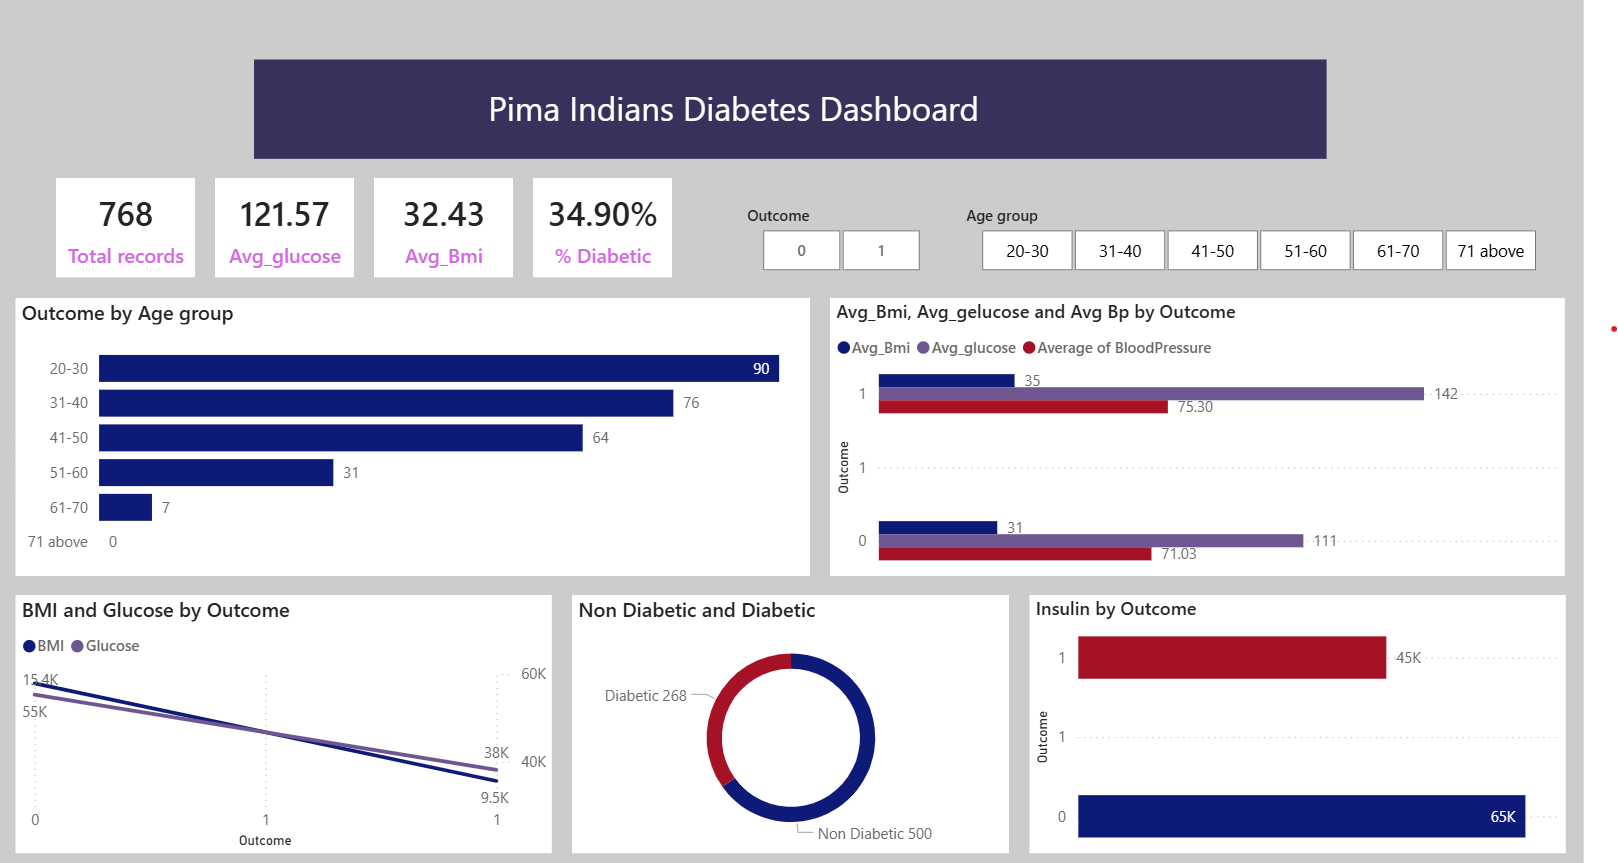

The dashboard page shown, as its layout file describes it:
{"tool":"powerbi","page":{"name":"Page 1","canvas":[1280,720],"ordinal":0},"visuals":[{"type":"barChart","title":"Outcome by Age group","fields":{"Category":["diabetes_data.Age group"],"Y":["Sum(diabetes_data.Outcome)"]},"box":[16,256,640,224],"z":0},{"type":"clusteredBarChart","title":"Avg_Bmi, Avg_gelucose and Avg Bp by Outcome","fields":{"Y":["All_measures.Avg_Bmi","All_measures.Avg_glucose","Avg(diabetes_data.BloodPressure)"],"Category":["diabetes_data.Outcome"]},"box":[672,256,592,224],"z":1000},{"type":"donutChart","fields":{"Y":["All_measures.Non Diabetic","All_measures.Diabetic"]},"box":[464,496,352,208],"z":2000},{"type":"slicer","fields":{"Values":["diabetes_data.Age group"]},"box":[768,176,496,64],"z":3000},{"type":"lineChart","fields":{"Category":["diabetes_data.Outcome"],"Y":["Sum(diabetes_data.BMI)"],"Y2":["Sum(diabetes_data.Glucose)"]},"box":[16,496,432,208],"z":4000},{"type":"barChart","title":"Insulin by Outcome","fields":{"Category":["diabetes_data.Outcome"],"Y":["Sum(diabetes_data.Insulin)"]},"box":[832,496,432,208],"z":5000},{"type":"slicer","fields":{"Values":["diabetes_data.Outcome"]},"box":[592,176,176,64],"z":6000},{"type":"card","fields":{"Values":["All_measures.Count"]},"box":[48,160,112,80],"z":7000},{"type":"card","fields":{"Values":["All_measures.% Diabetic"]},"box":[432,160,112,80],"z":8000},{"type":"card","fields":{"Values":["All_measures.Avg_glucose"]},"box":[176,160,112,80],"z":9000},{"type":"card","fields":{"Values":["All_measures.Avg_Bmi"]},"box":[304,160,112,80],"z":10000},{"type":"shape","box":[208,64,864,80],"z":11000},{"type":"textbox","box":[384,80,528,48],"z":12000}]}

Visuals, with their boxes on the page's 1280x720 design canvas (x1, y1, x2, y2). These are canvas units, not pixel positions in the 1618x863 screenshot, which may show the page scaled, cropped or inside an application window:
"Outcome by Age group" barChart: (x1=16, y1=256, x2=656, y2=480)
"Avg_Bmi, Avg_gelucose and Avg Bp by Outcome" clusteredBarChart: (x1=672, y1=256, x2=1264, y2=480)
donutChart - All_measures.Non Diabetic x All_measures.Diabetic: (x1=464, y1=496, x2=816, y2=704)
slicer - diabetes_data.Age group: (x1=768, y1=176, x2=1264, y2=240)
lineChart - diabetes_data.Outcome x Sum(diabetes_data.BMI): (x1=16, y1=496, x2=448, y2=704)
"Insulin by Outcome" barChart: (x1=832, y1=496, x2=1264, y2=704)
slicer - diabetes_data.Outcome: (x1=592, y1=176, x2=768, y2=240)
card - All_measures.Count: (x1=48, y1=160, x2=160, y2=240)
card - All_measures.% Diabetic: (x1=432, y1=160, x2=544, y2=240)
card - All_measures.Avg_glucose: (x1=176, y1=160, x2=288, y2=240)
card - All_measures.Avg_Bmi: (x1=304, y1=160, x2=416, y2=240)
shape: (x1=208, y1=64, x2=1072, y2=144)
textbox: (x1=384, y1=80, x2=912, y2=128)
